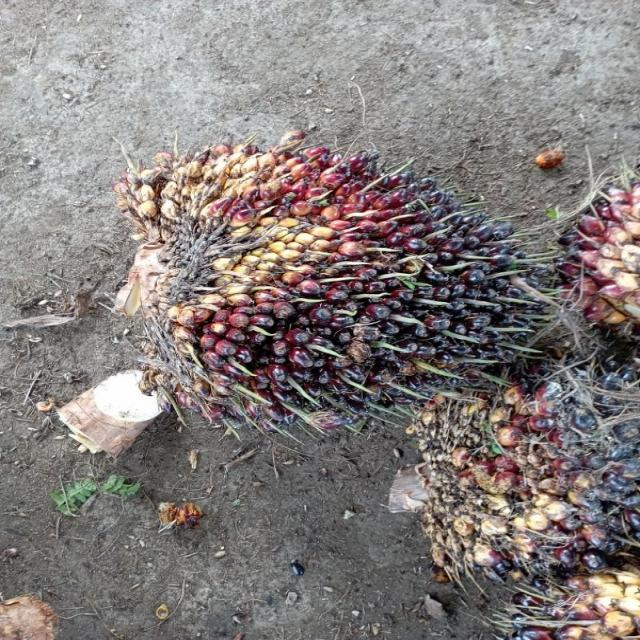fraksi 00: (102, 144, 556, 423), (417, 355, 640, 565)
